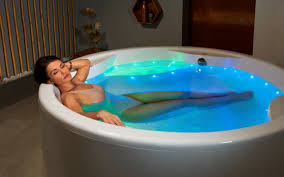bathub: (34, 42, 284, 177)
